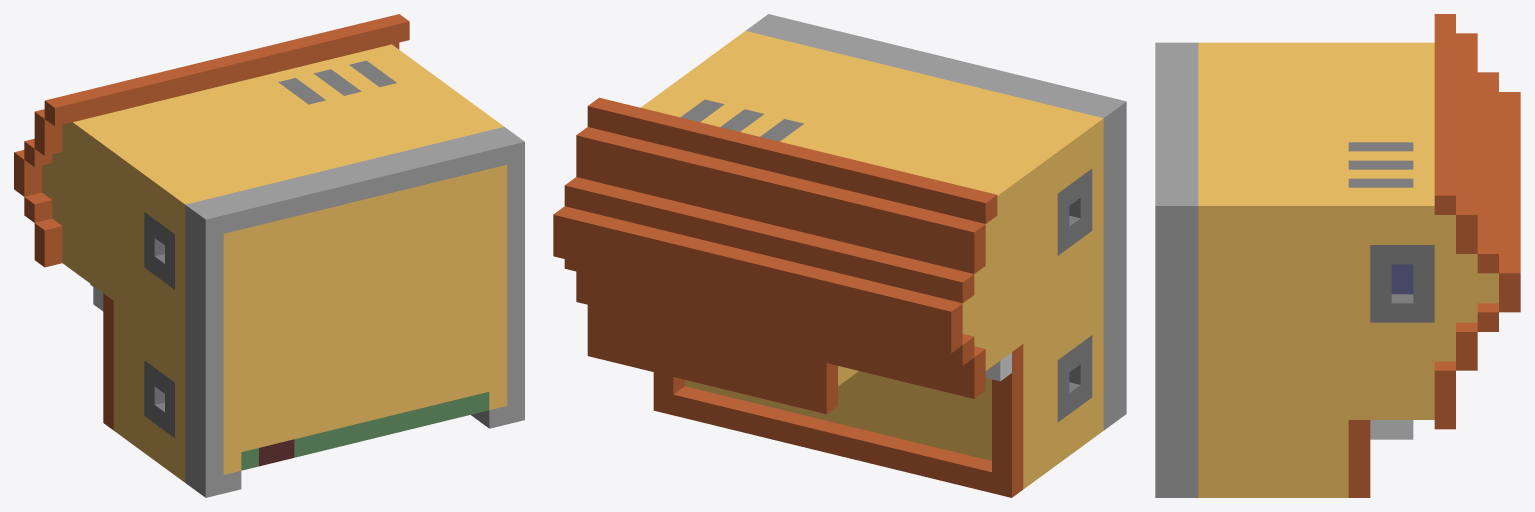
File: yoshida5.fbx
3 views of the same model, side by side, from view 1: azimuth 30°, elevation 25°; view 2: azimuth 150°, elevation 25°; view 3: azimuth 270°, elevation 25° (orthographic). The views are drawn at different scales.
Parts seen in each view (by area): view 1: Default; view 2: Default; view 3: Default.
Boxes of the visible parts, x1,y1,x2,y2 form: Default: (14,14,524,497); Default: (553,14,1126,497); Default: (1155,14,1520,497).
Bounding box in the file's own units: 20 × 17 × 17.
Materials: 1 (1 with a texture image).
